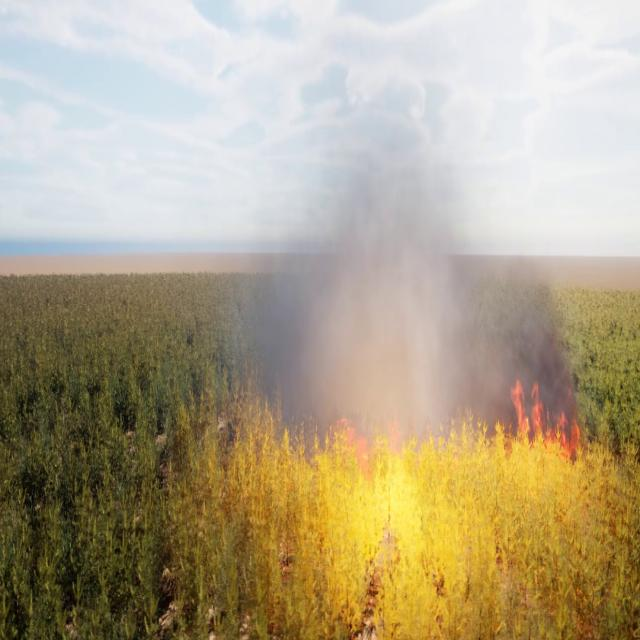fire: (265, 414, 633, 614), (513, 372, 580, 448)
smoke: (232, 94, 584, 444)
